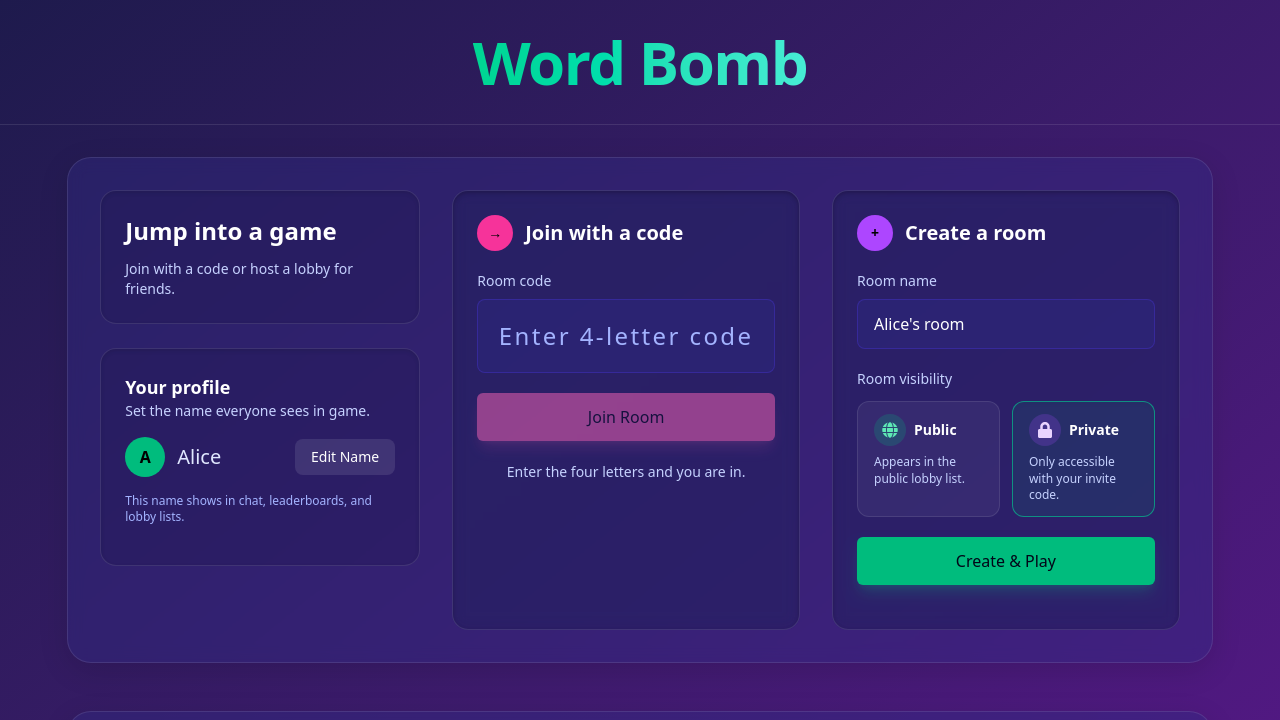
Scenario: HomePage › sanitizes join code input and enables join
In the field labelled "Room code": (626,336) left=477, top=299, right=775, bottom=373, type "a1b!"
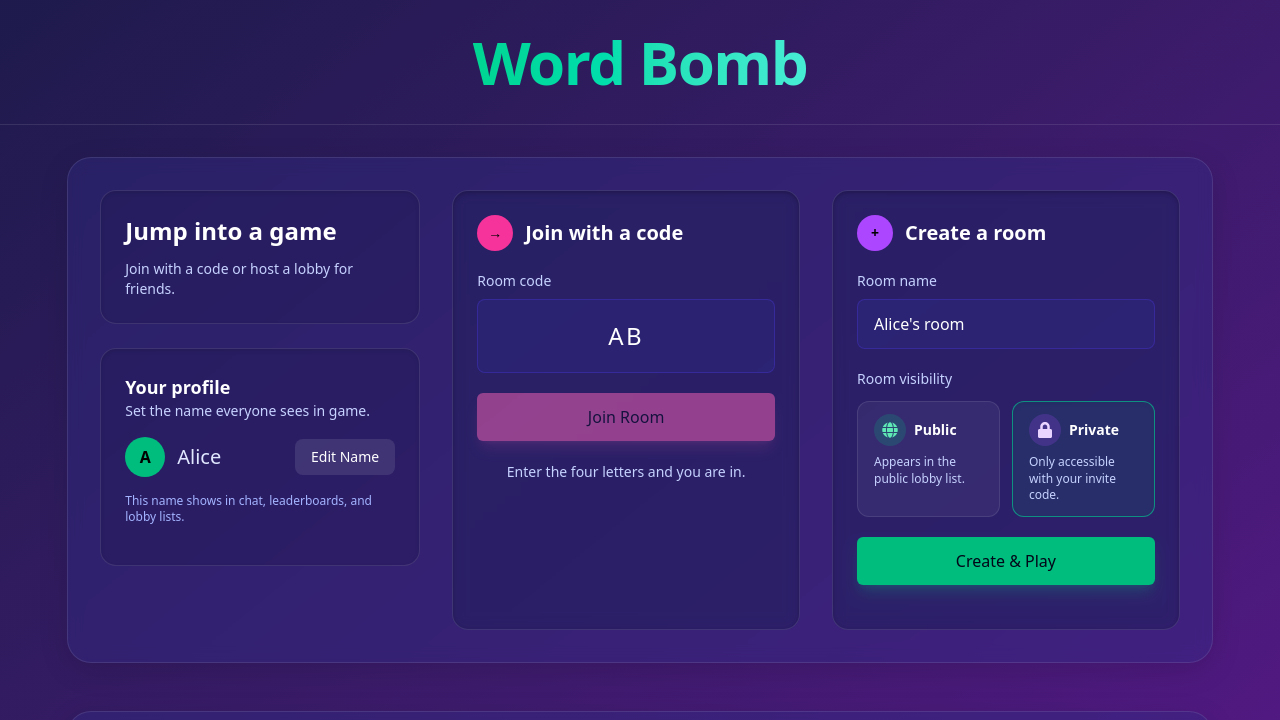
Now the field labelled "Room code" holds "AB", box left=477, top=299, right=775, bottom=373
